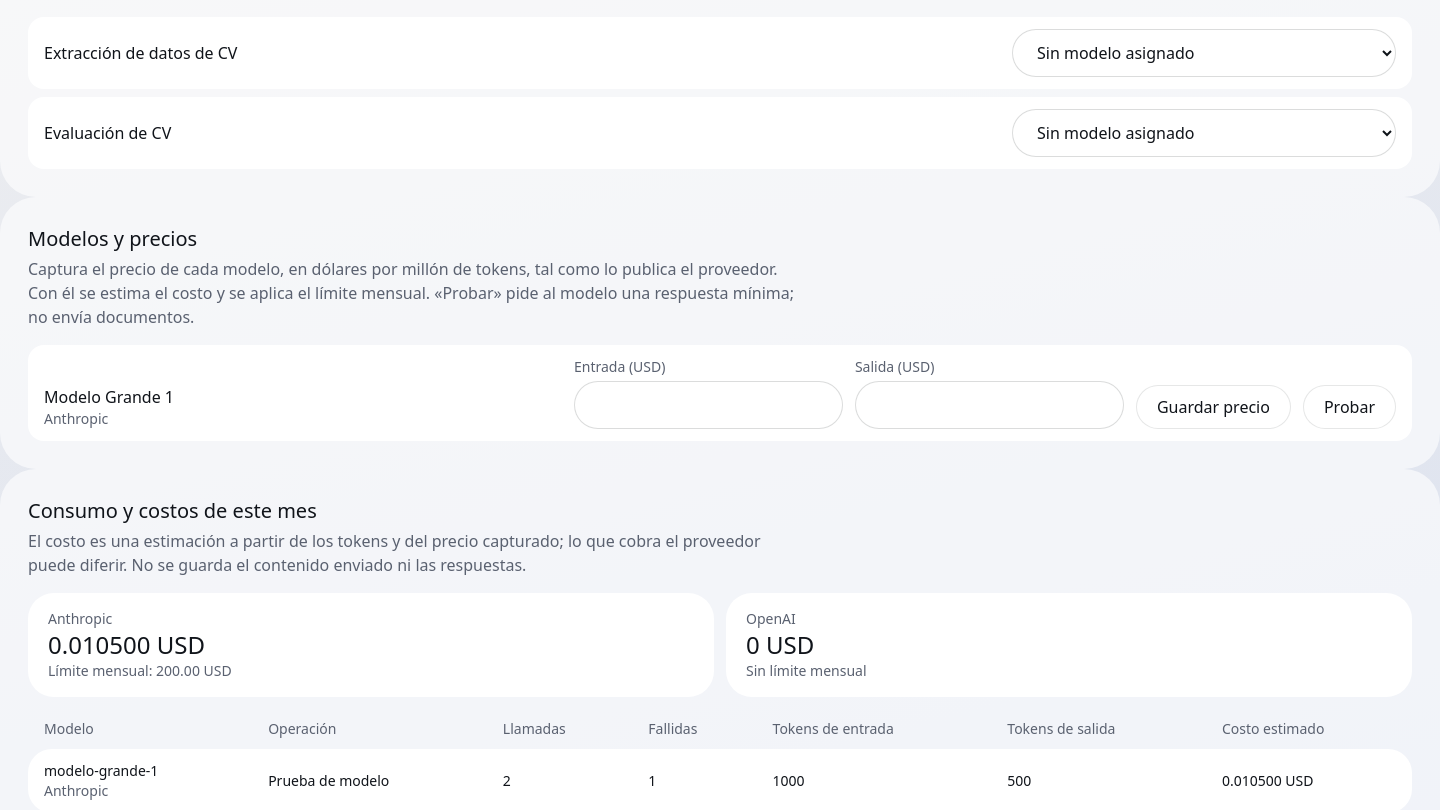
Test: AiSettingsScreen › guarda el precio de un modelo, lo prueba y muestra el consumo del mes
(page scrolled)
In the field named "Precio de entrada de Modelo Grande 1": (708, 405) [574,381,843,429], type "3"
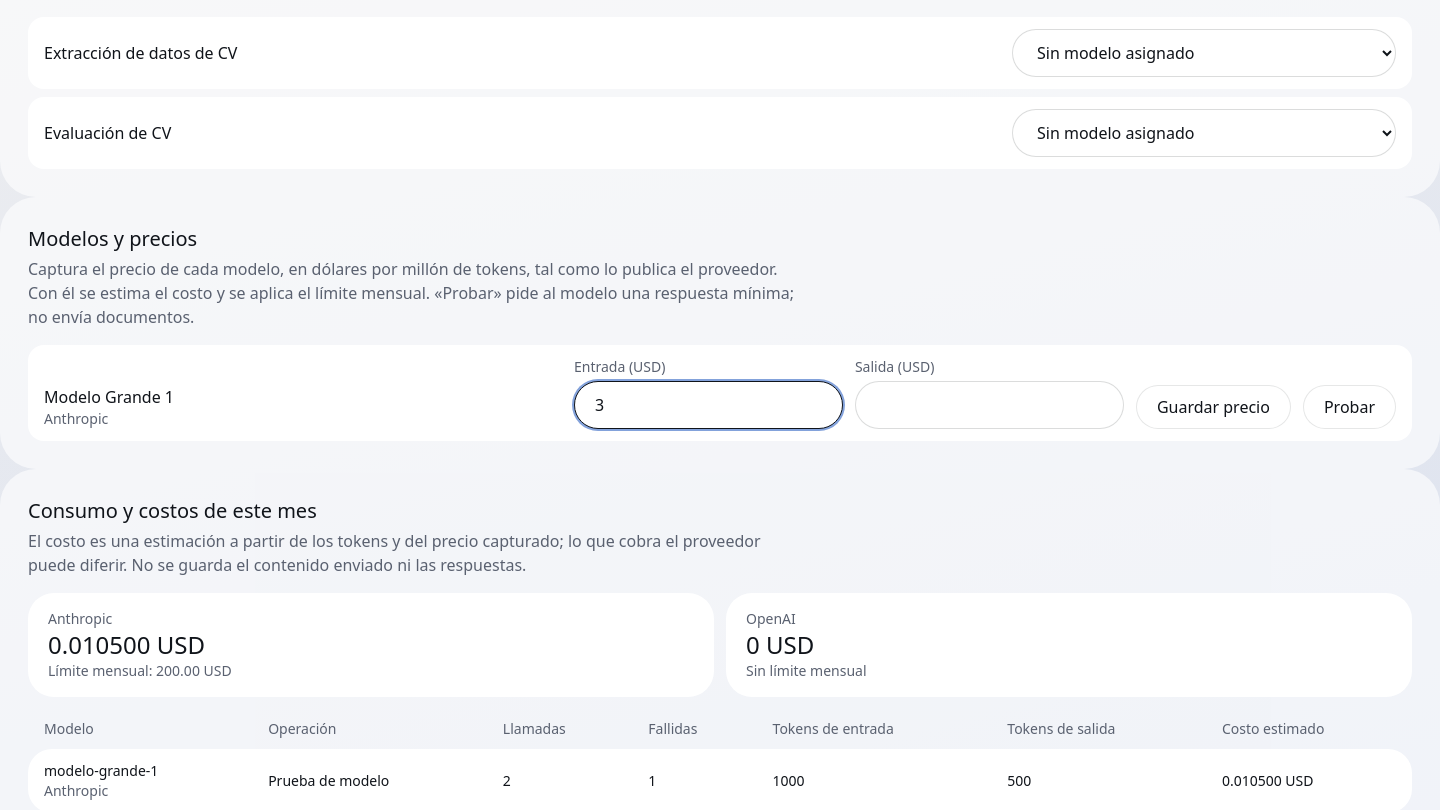
In the field named "Precio de salida de Modelo Grande 1": (989, 405) [855,381,1124,429], type "15"
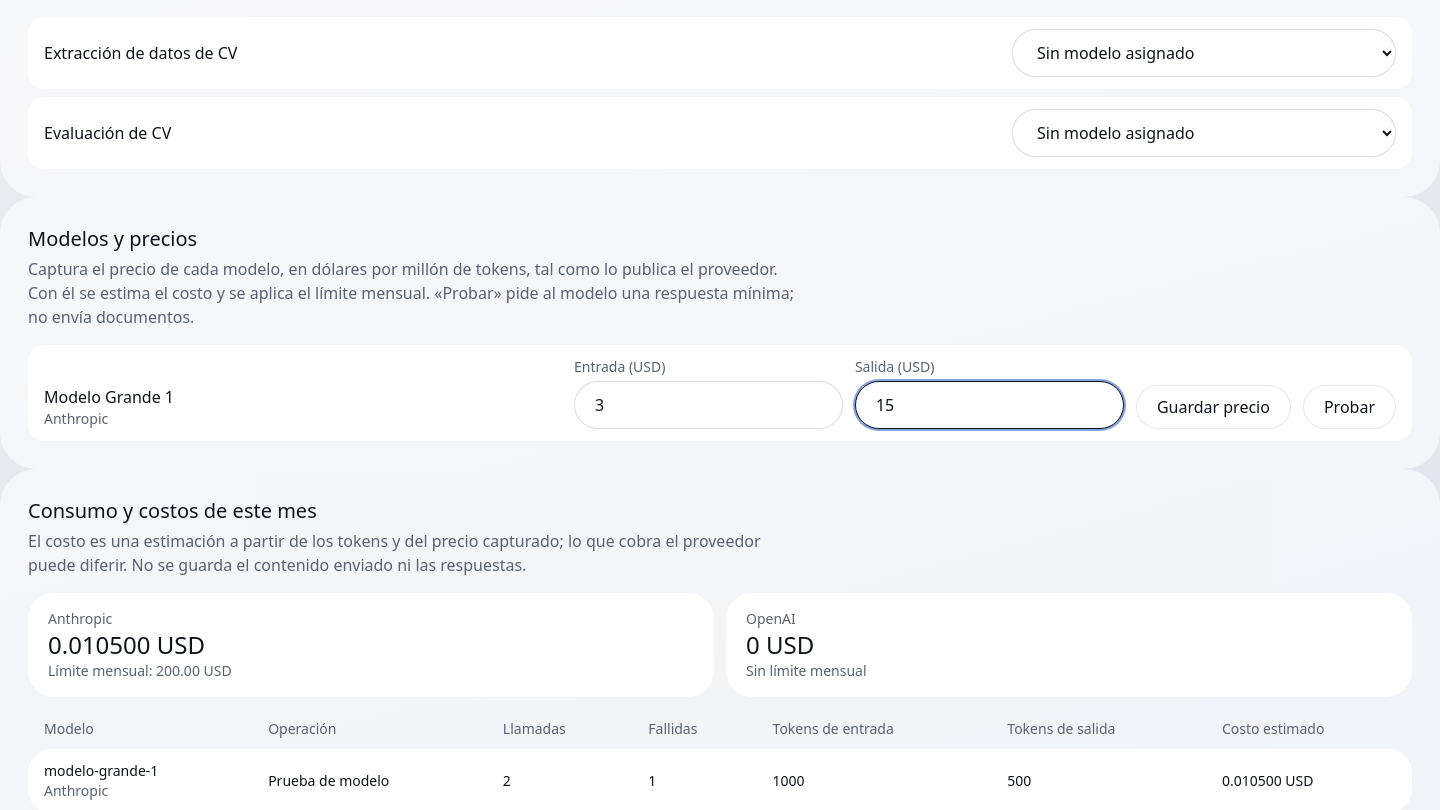
Click the button with aria-label "Guardar precio de Modelo Grande 1": (1213, 407) [1136,385,1291,429]
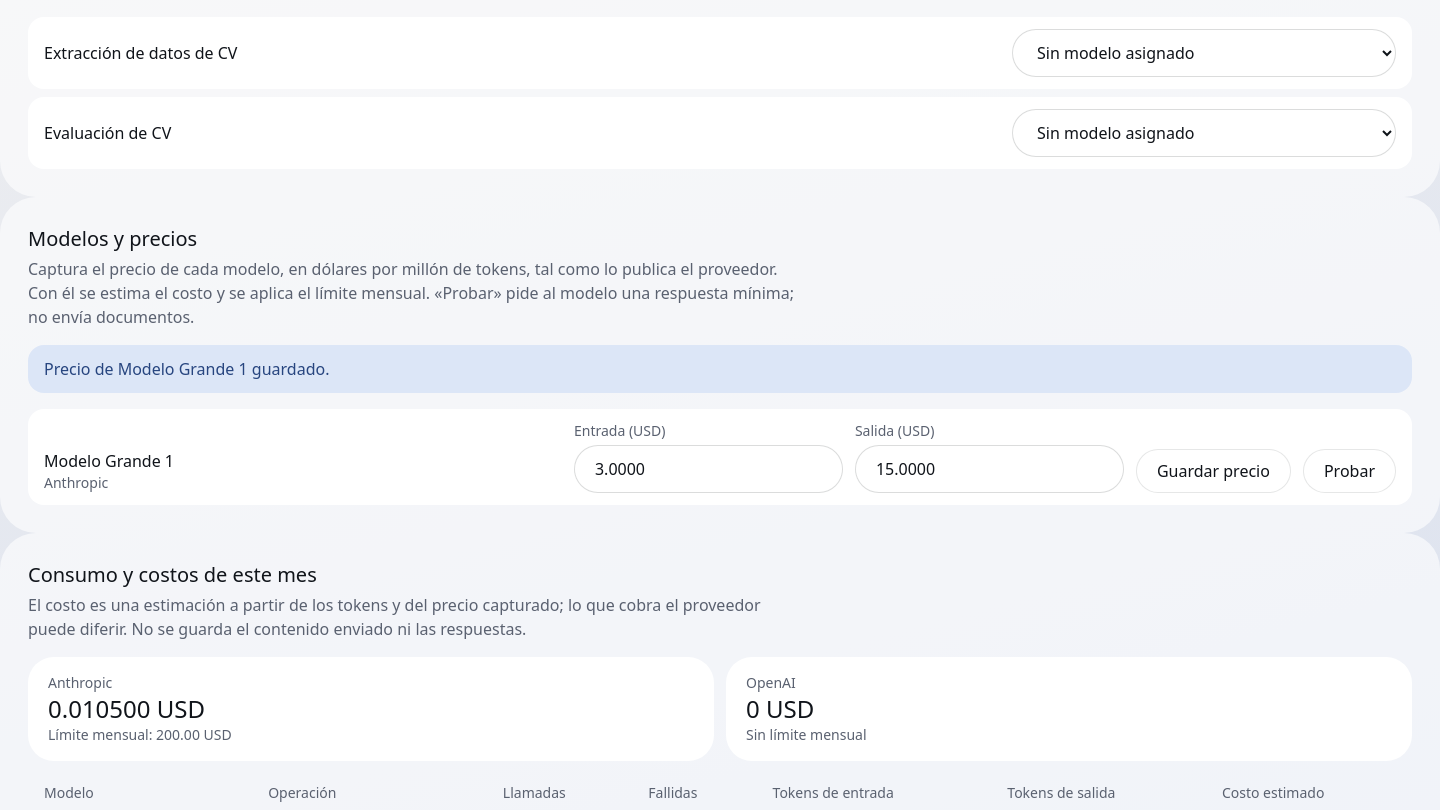
Now the message shows "guardado", box [44,358,330,380]
Click the button with aria-label "Probar Modelo Grande 1": (1349, 471) [1303,449,1396,493]
(page scrolled)
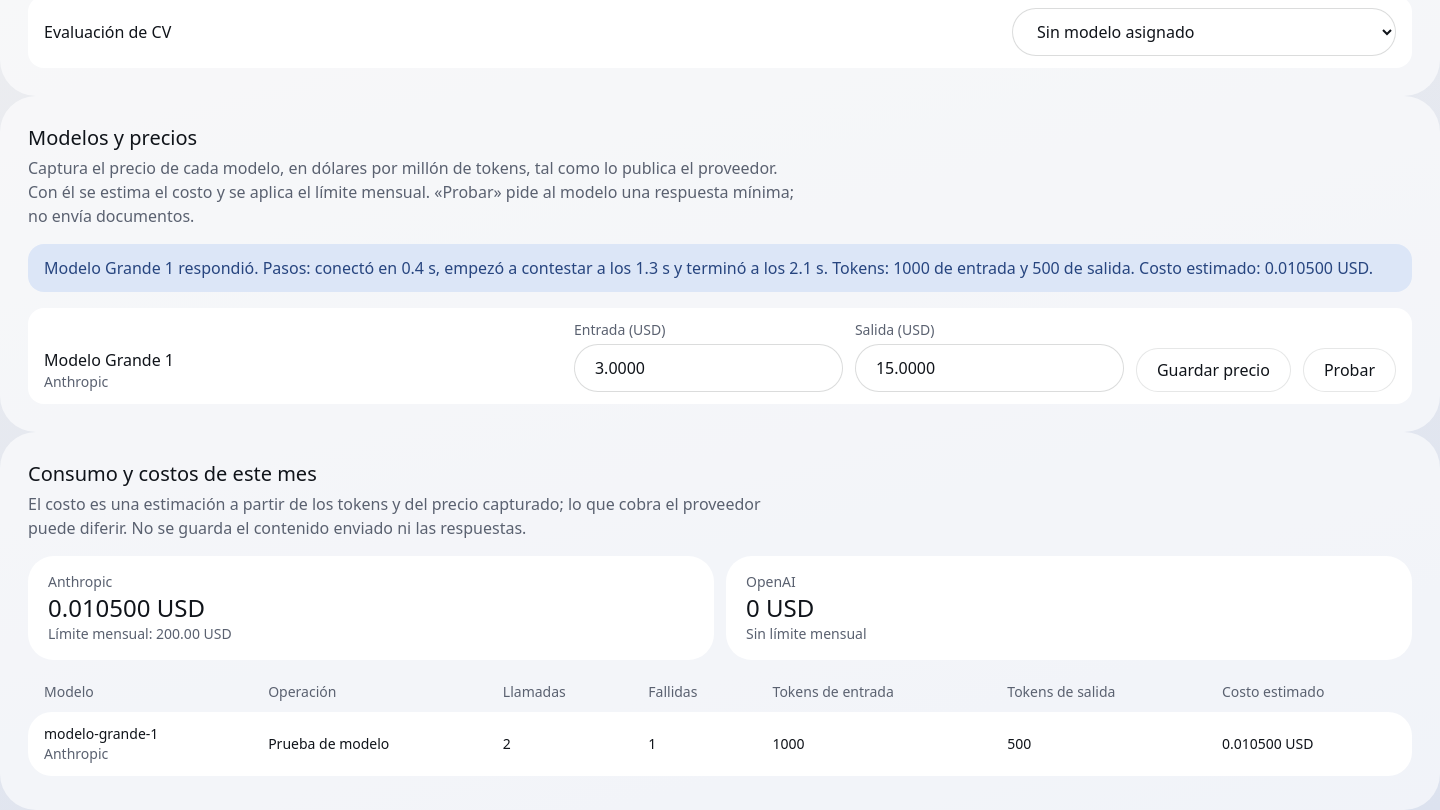
Expected: the text "Límite mensual: 200.00 USD" is shown, [48,624,232,643]
Now the text "respondió" shows "Costo estimado: 0.010500 USD", box [44,257,1373,279]
Now the text "respondió" shows "Pasos: conectó en 0.4 s, empezó a contestar a los 1.3 s y terminó a los 2.1 s.", box [44,257,1373,279]
